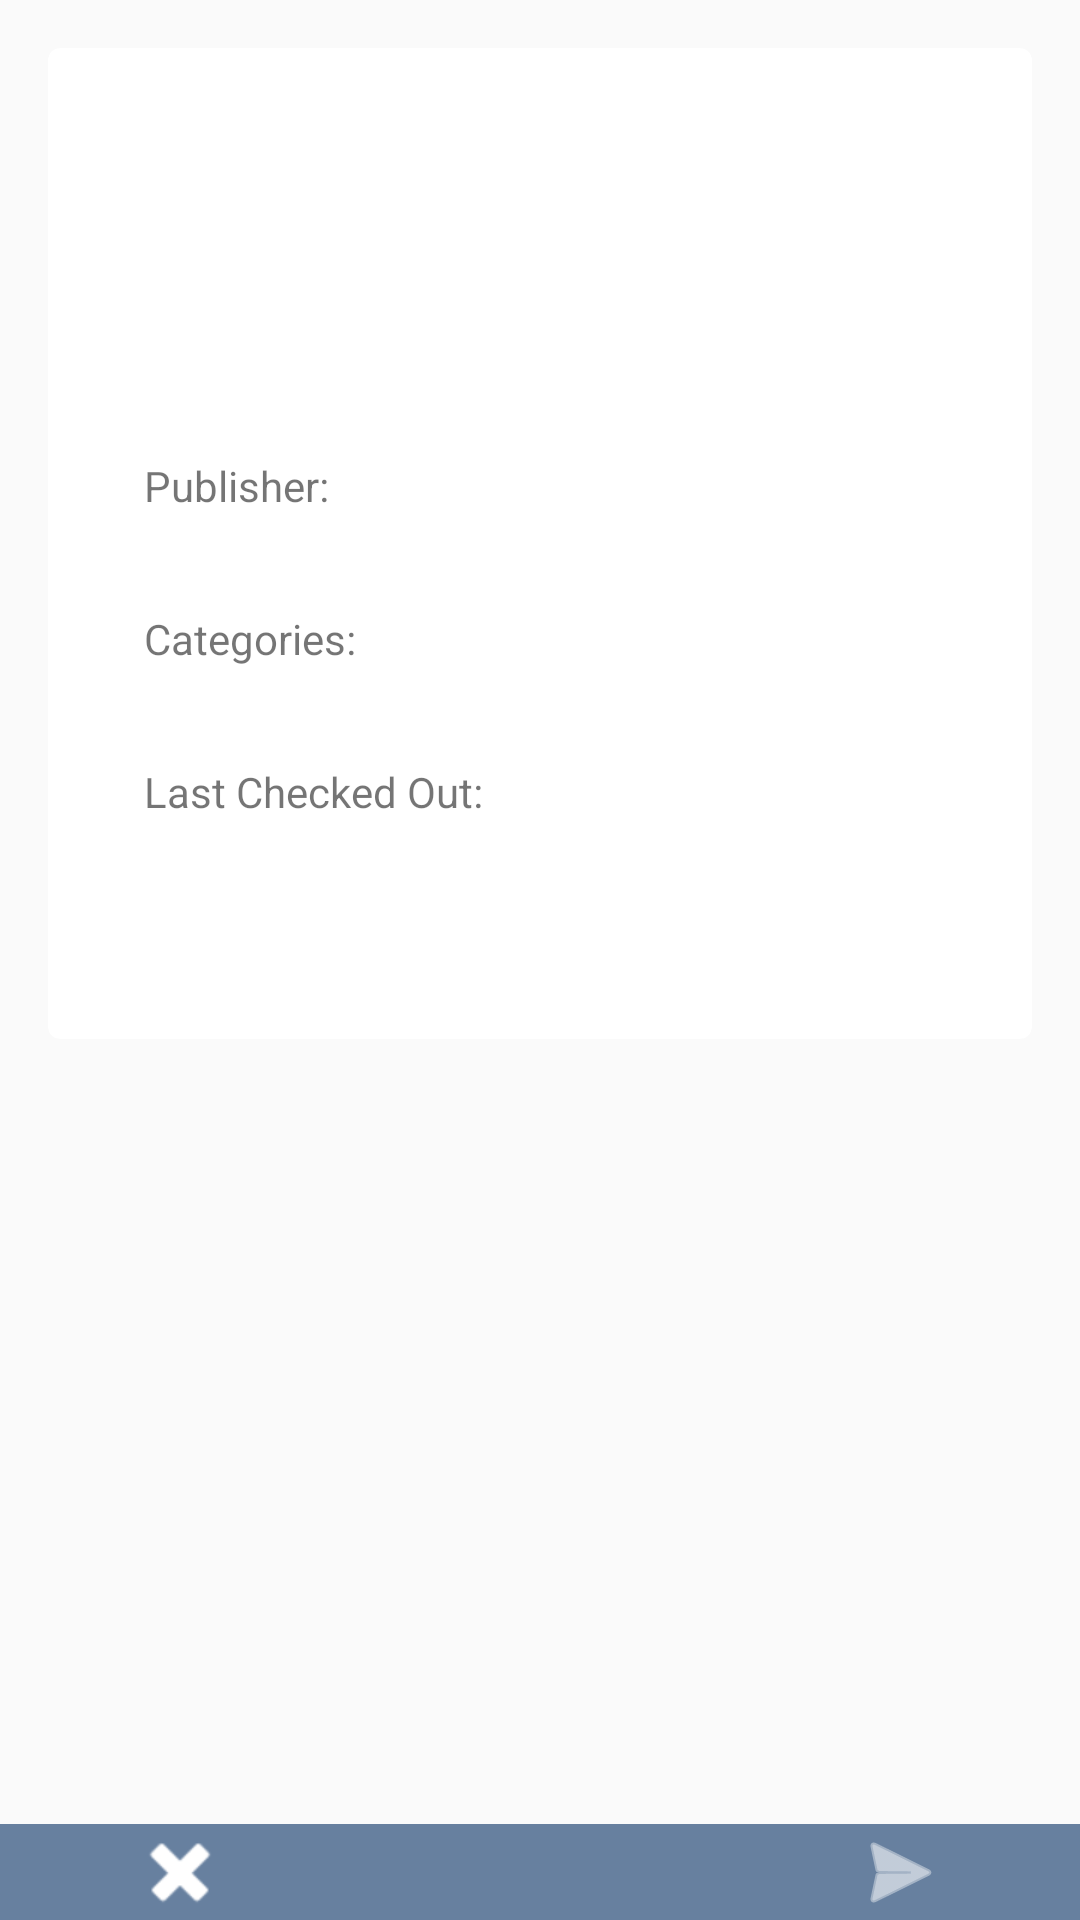

Point at icon controls on the screen. Image size 1080x1920, points as (x=x, y=y).
delete: (x=180, y=1872)
send: (x=900, y=1872)
